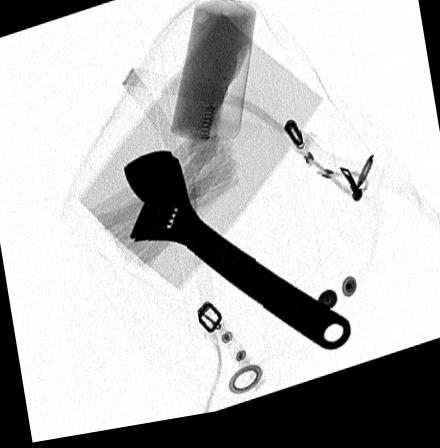Wrench: (121, 151, 353, 363)
